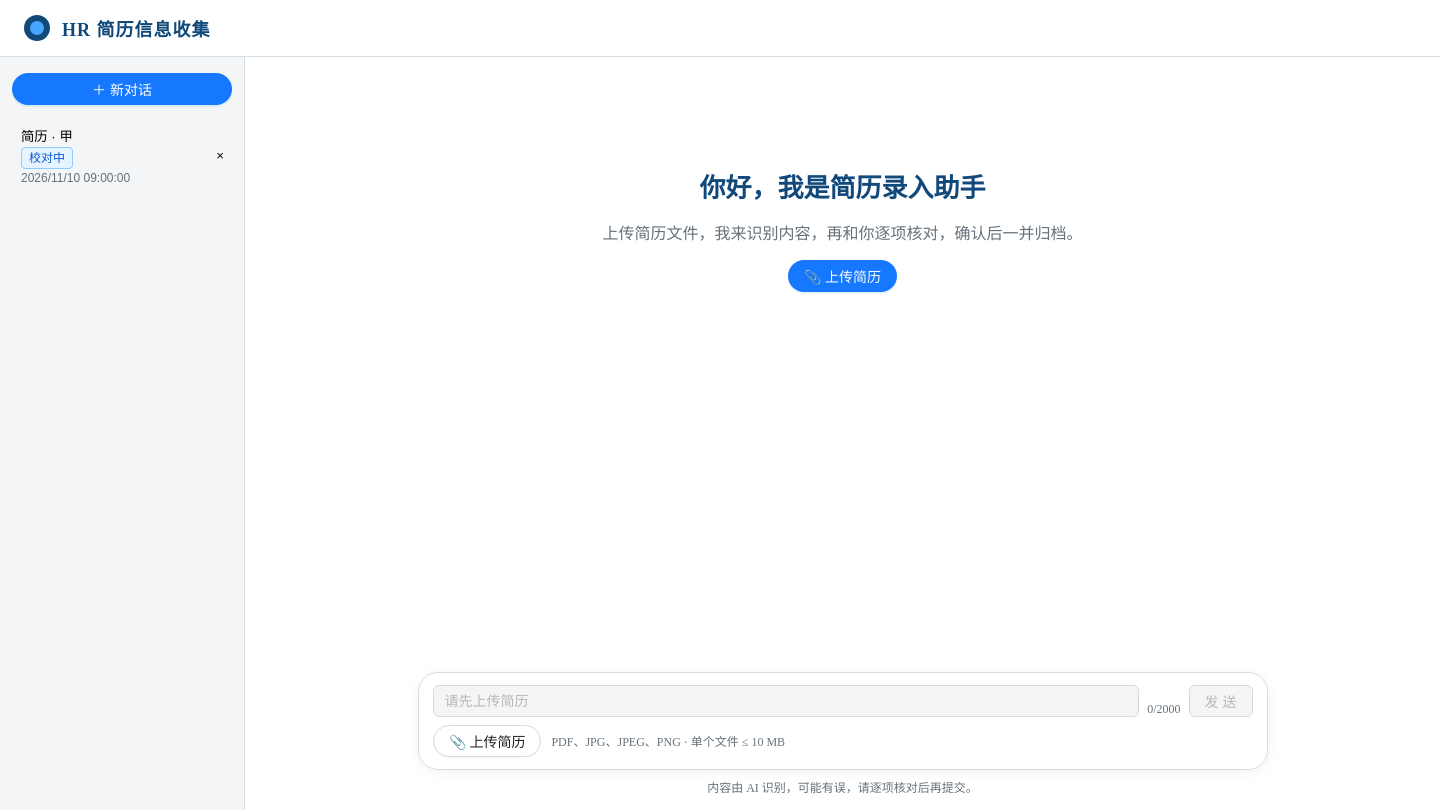
Scenario: switching and leaving (REQ-FE-05.3, 05.4) › a session that no longer exists returns to the empty view with a notice
The image size is (1440, 810).
Click the button "简历 · 甲 校对中 2026/11/10 09:00:00": point(108, 156) [12, 117, 204, 194]
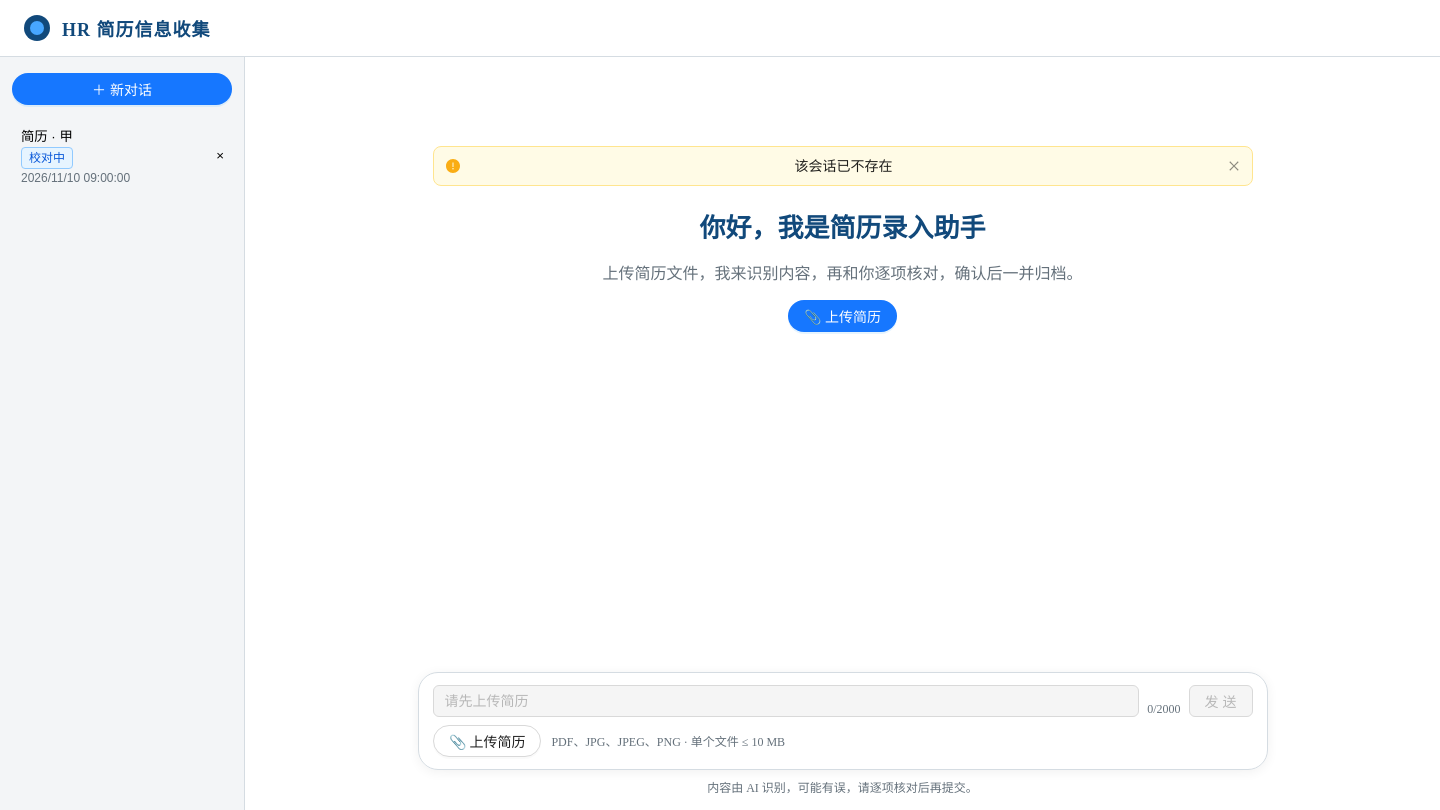
Expected: the text "该会话已不存在" is shown, [794, 157, 892, 174]
